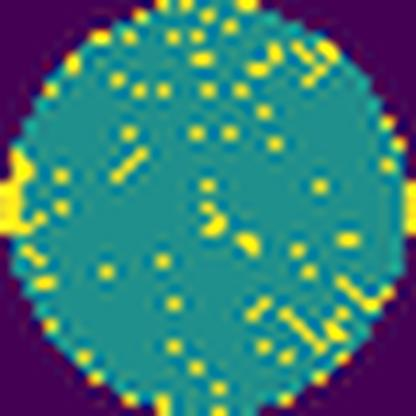Edge-Loc: (0, 142, 41, 236)
